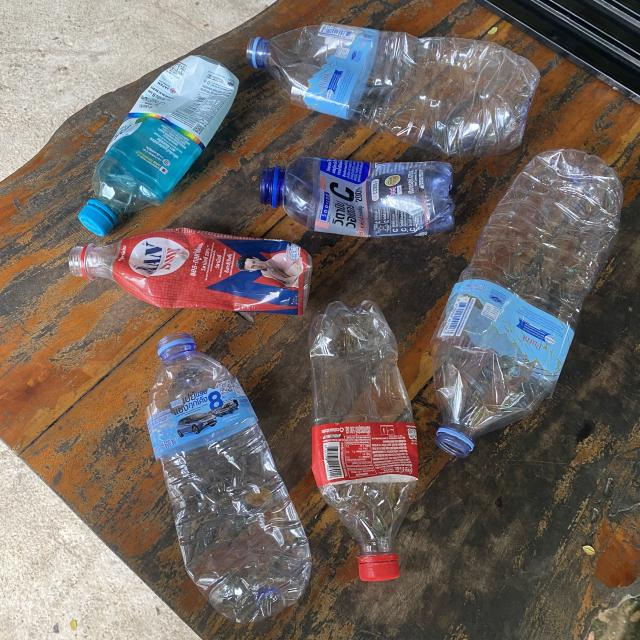plastik: (431, 149, 622, 458), (146, 335, 311, 622), (246, 22, 539, 158), (309, 300, 418, 581), (79, 55, 239, 236), (69, 228, 312, 315), (261, 158, 454, 238)
